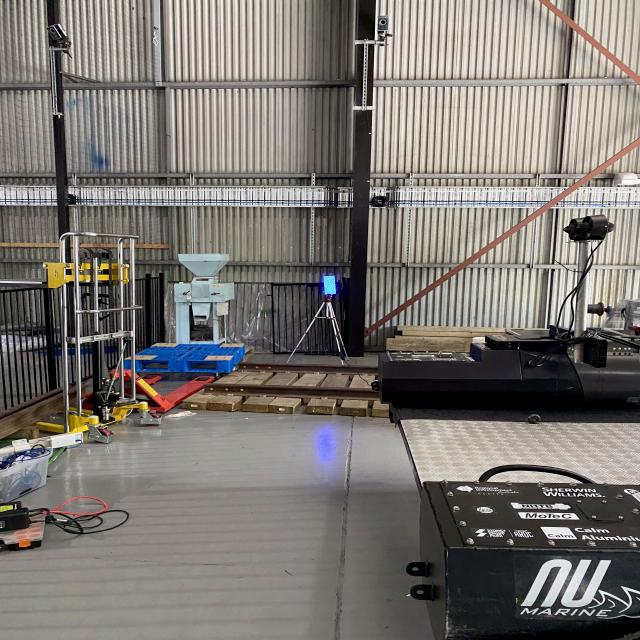matrix: (321, 274, 338, 296)
